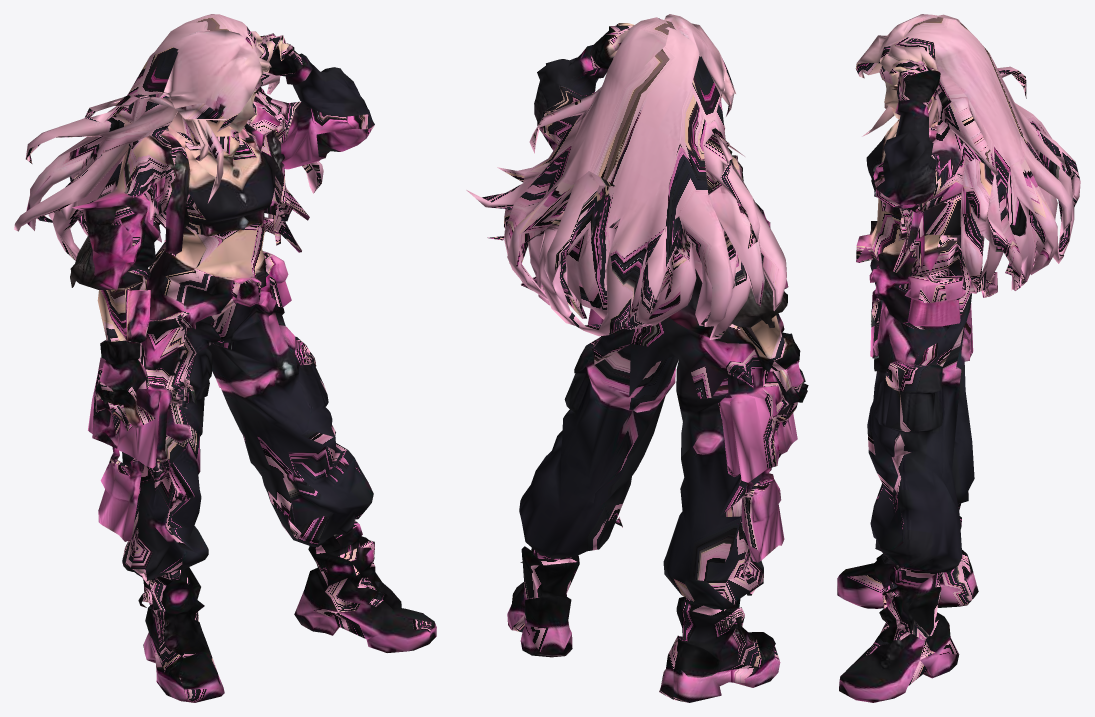
The model's file is sakura-lo.glb.
The picture shows the model from 3 angles, left to right: view 1: azimuth 30°, elevation 25°; view 2: azimuth 150°, elevation 25°; view 3: azimuth 270°, elevation 25°; orthographic projection. The views are drawn at different scales.
Visible parts, largest first — view 1: model; view 2: model; view 3: model.
Boxes of the visible parts, bbox=[...] form: model: bbox=[14, 14, 436, 702]; model: bbox=[466, 14, 808, 702]; model: bbox=[837, 14, 1080, 702].
Bounding box in the file's own units: 1.04 × 1.9 × 0.6924.
Materials: 1 (1 with a texture image).
